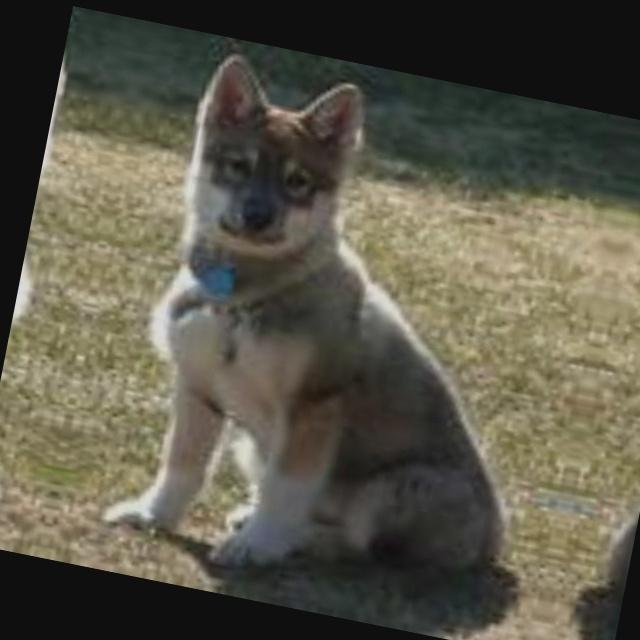dog: (80, 48, 598, 618), (0, 26, 108, 518), (578, 148, 640, 640)
